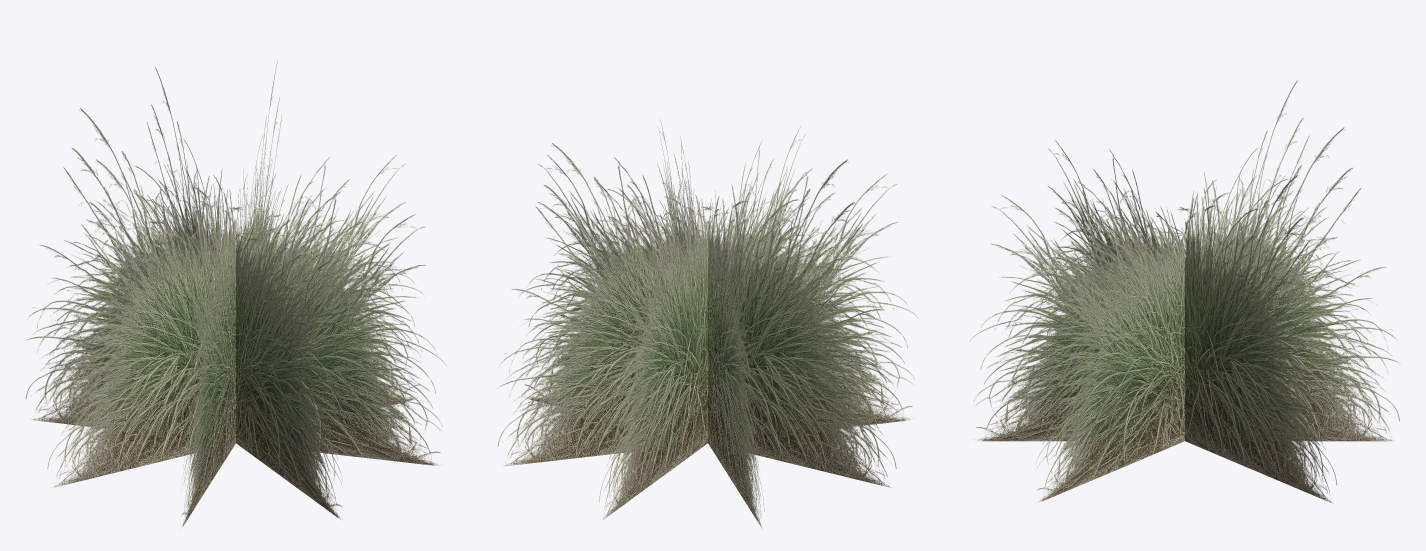
Rendered from Graminea_pampeana.glb.
3 renders of one model, left to right at view 1: azimuth 30°, elevation 25°; view 2: azimuth 150°, elevation 25°; view 3: azimuth 270°, elevation 25°, orthographic.
Parts seen in each view (by area): view 1: Gramínea pampeana (Paspalum quadrifarium); view 2: Gramínea pampeana (Paspalum quadrifarium); view 3: Gramínea pampeana (Paspalum quadrifarium).
Part boxes in pixels (x1,y1,x2,y2): Gramínea pampeana (Paspalum quadrifarium): [25, 61, 445, 527]; Gramínea pampeana (Paspalum quadrifarium): [497, 120, 918, 528]; Gramínea pampeana (Paspalum quadrifarium): [970, 80, 1399, 502].
Bounding box in the file's own units: 1 × 0.8069 × 1.
Materials: 4 (4 with a texture image).
